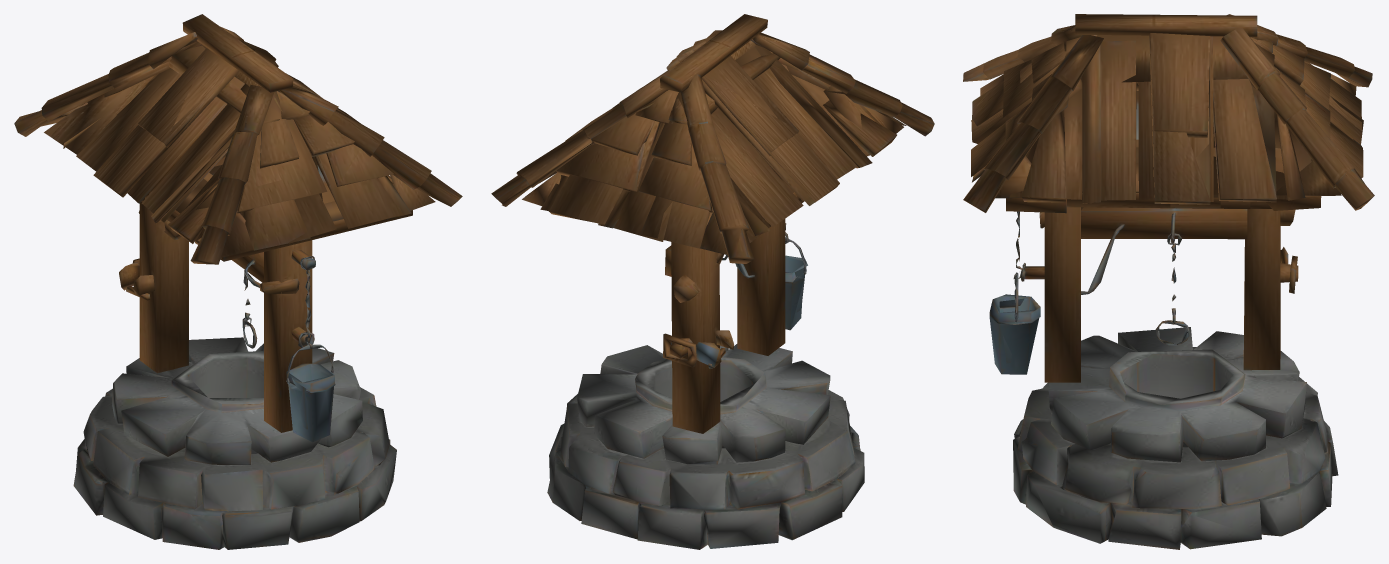
Rendered from well.glb.
The picture shows the model from 3 angles, left to right: view 1: azimuth 30°, elevation 25°; view 2: azimuth 150°, elevation 25°; view 3: azimuth 270°, elevation 25°; orthographic projection. The views are drawn at different scales.
Bounding box in the file's own units: 0.623 × 0.9483 × 0.7651.
1 material, 1 textured.
